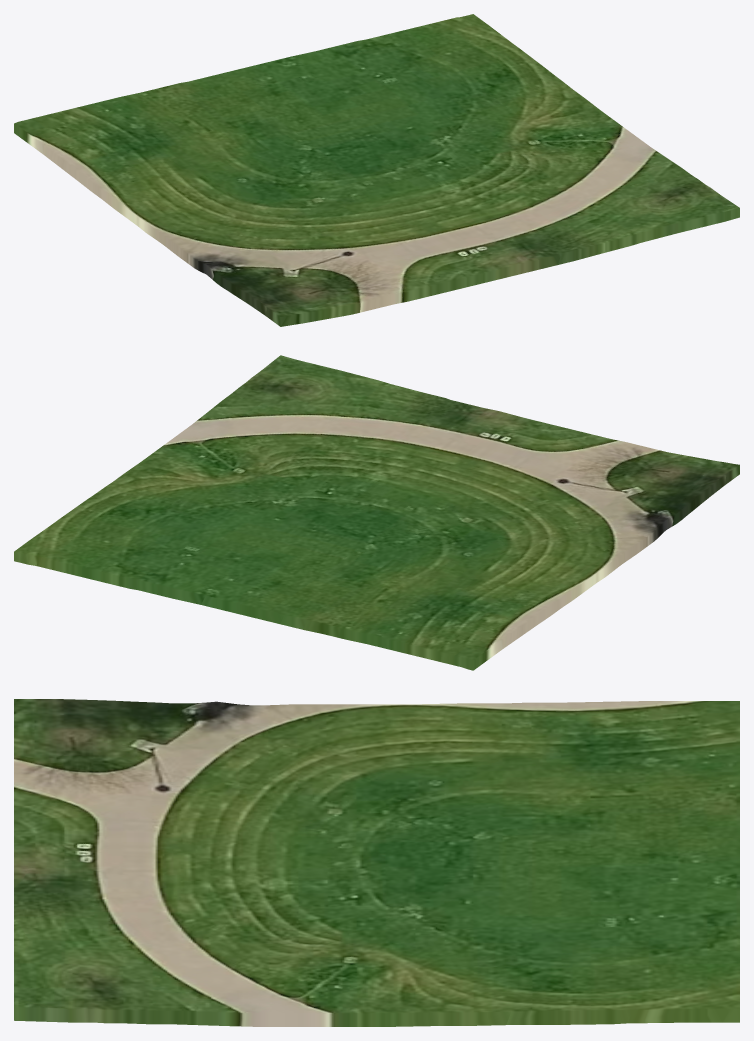
File: z20-167784-405218-h0-yup-uvflip-v3-world.glb
The picture shows the model from 3 angles, top to bottom: view 1: azimuth 30°, elevation 25°; view 2: azimuth 150°, elevation 25°; view 3: azimuth 270°, elevation 25°; orthographic projection. The views are drawn at different scales.
Bounding box in the file's own units: 30.16 × 1.04 × 30.32.
1 material, 1 textured.
